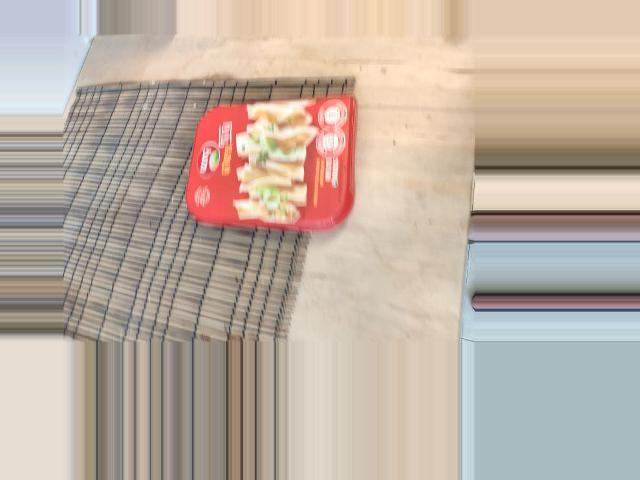cheese: (180, 165, 304, 356)
